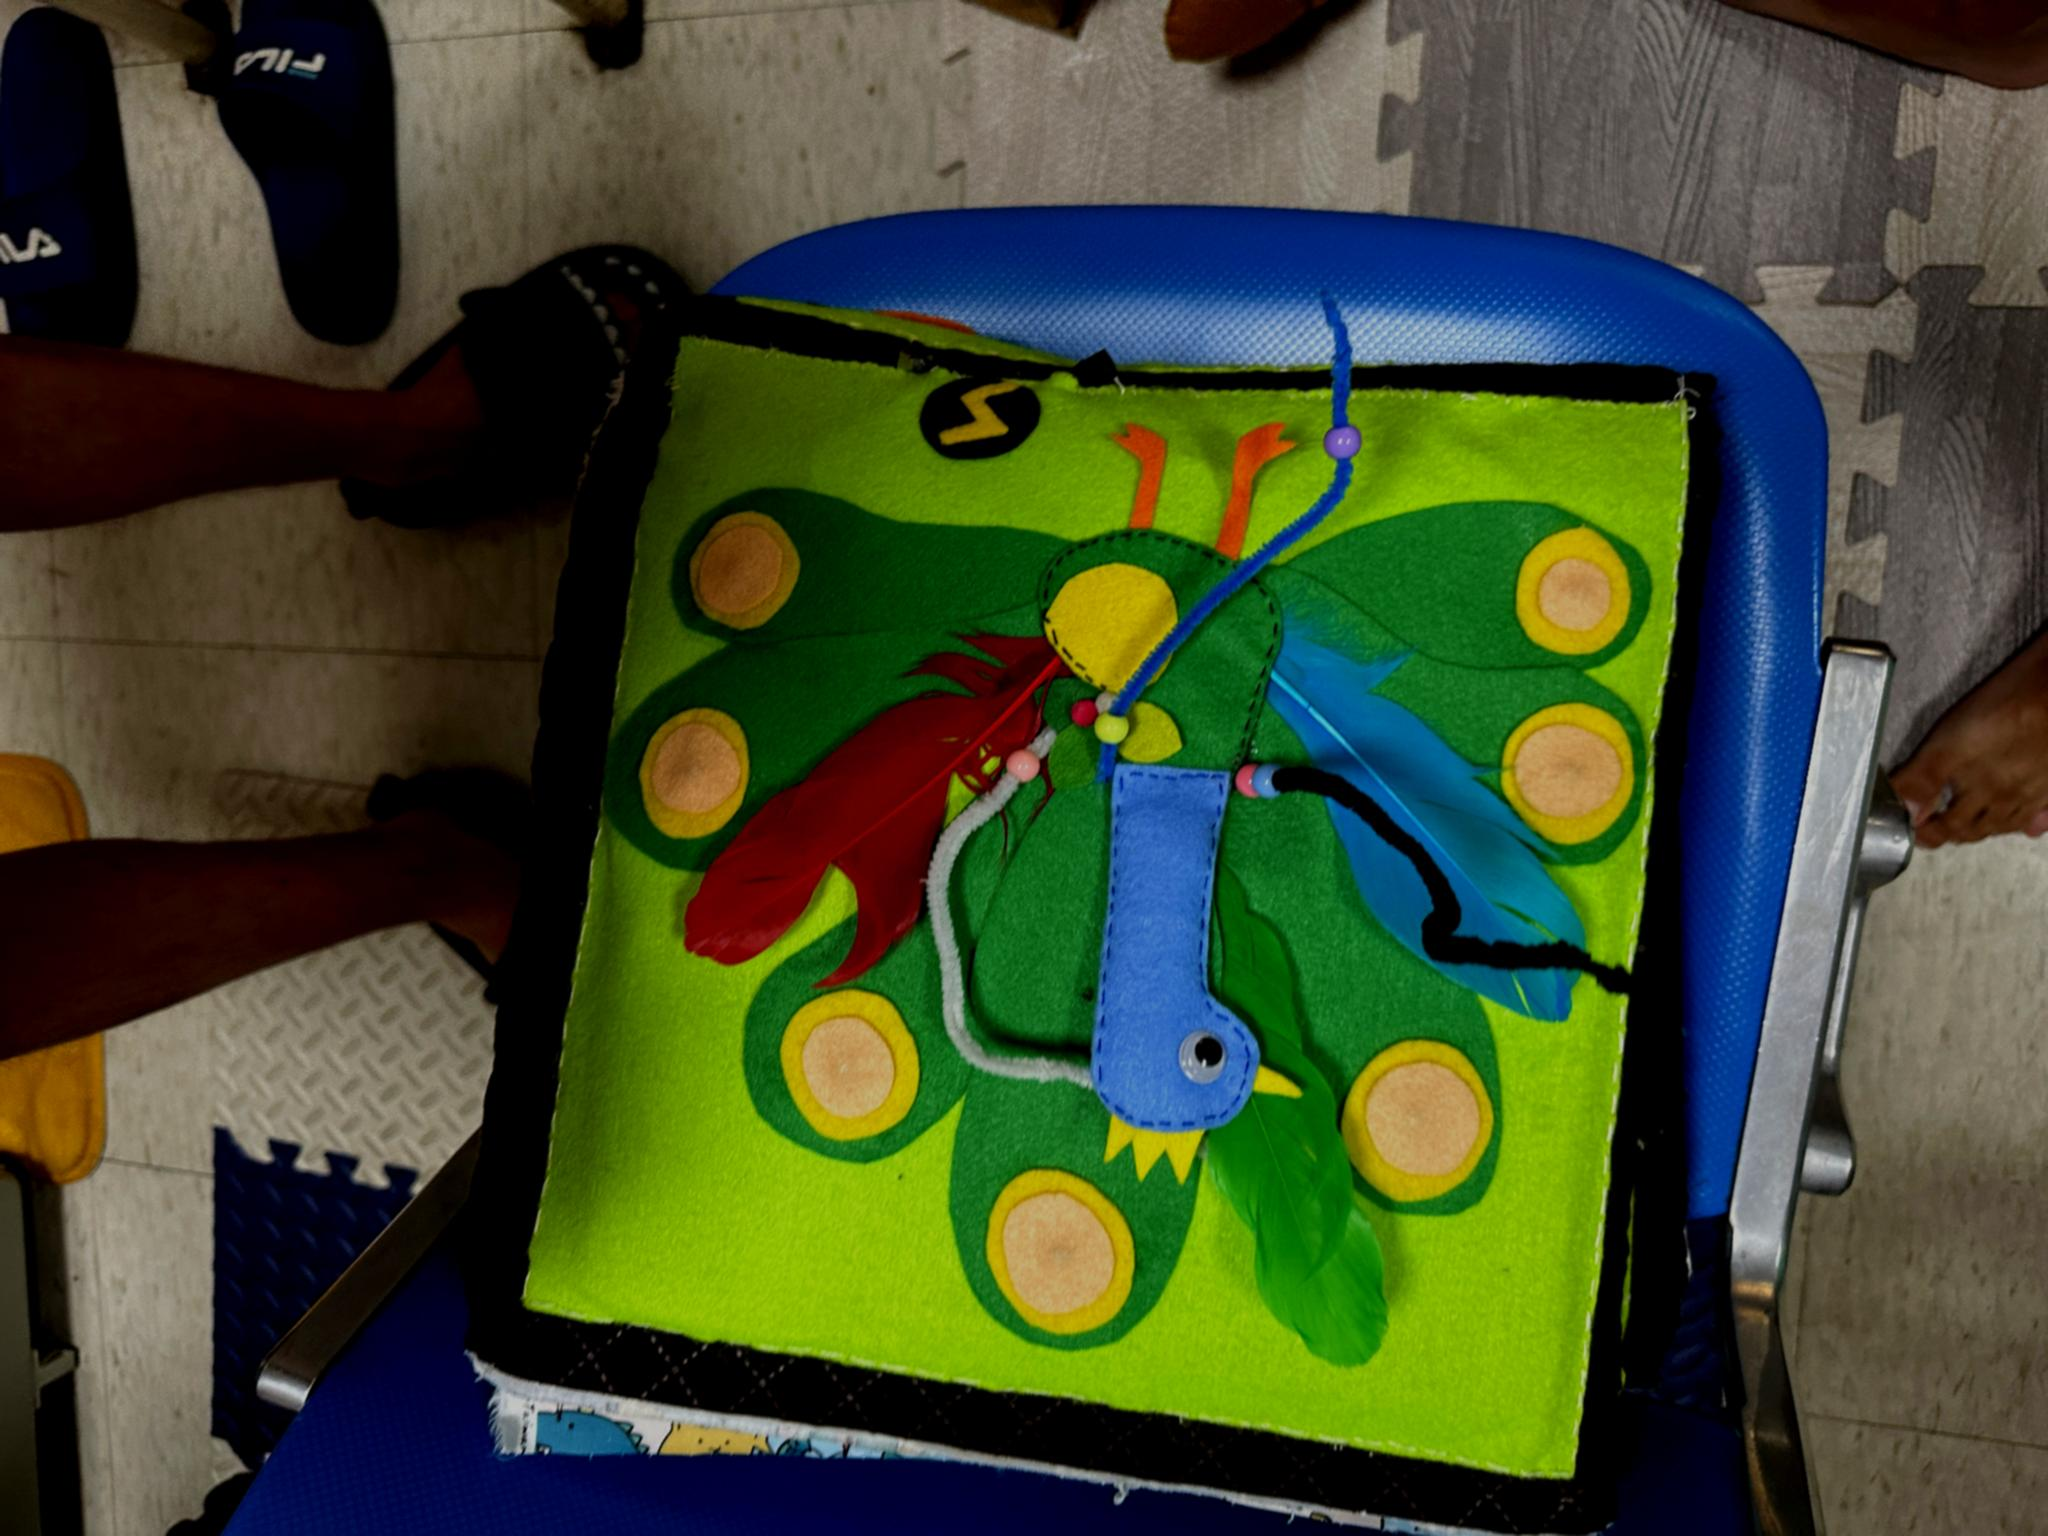bead: (1206, 760, 1276, 818), (1008, 728, 1042, 802), (1255, 744, 1292, 802), (1087, 708, 1129, 750), (1314, 424, 1367, 457)
